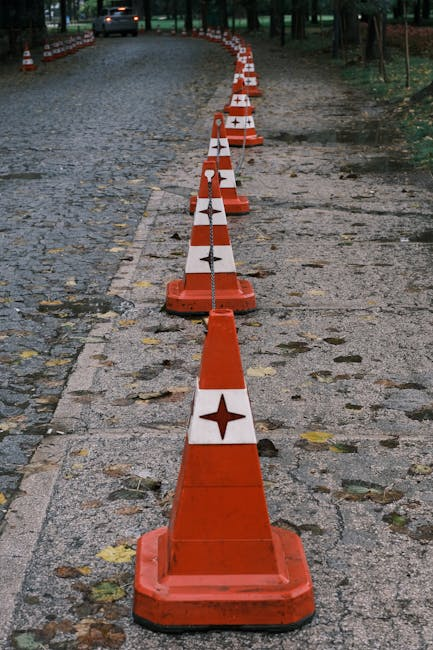traffic_cone: (132, 308, 316, 633), (165, 161, 257, 316), (189, 112, 250, 216), (224, 93, 264, 147), (232, 61, 263, 97), (20, 42, 38, 72), (41, 40, 55, 62)
